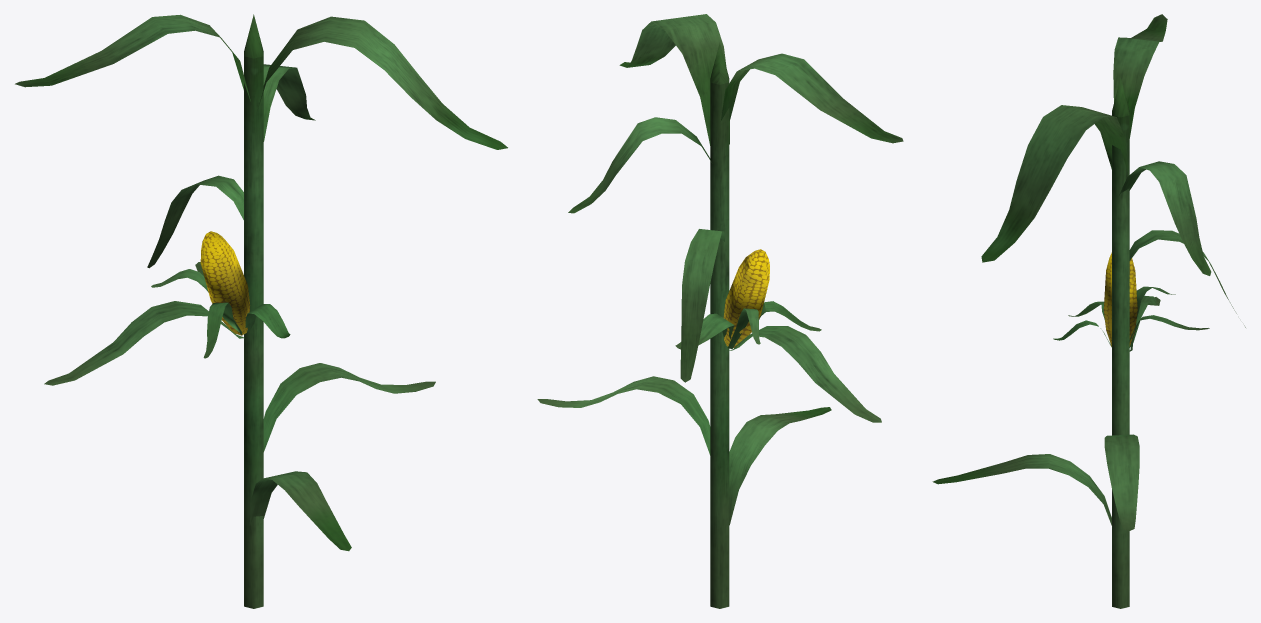
The model's file is MSH_Mais.fbx.
The picture shows the model from 3 angles, left to right: view 1: azimuth 30°, elevation 25°; view 2: azimuth 150°, elevation 25°; view 3: azimuth 270°, elevation 25°; orthographic projection. The views are drawn at different scales.
Parts seen in each view (by area): view 1: Pied, epi de mais; view 2: Pied, epi de mais; view 3: Pied, epi de mais.
Boxes of the visible parts, <box> form: Pied: <box>15,14,507,608</box>; epi de mais: <box>151,231,290,358</box>; Pied: <box>537,14,903,608</box>; epi de mais: <box>675,249,821,349</box>; Pied: <box>932,14,1245,608</box>; epi de mais: <box>1053,252,1209,351</box>.
Size of the model in its own units: 306 by 430 by 231.
